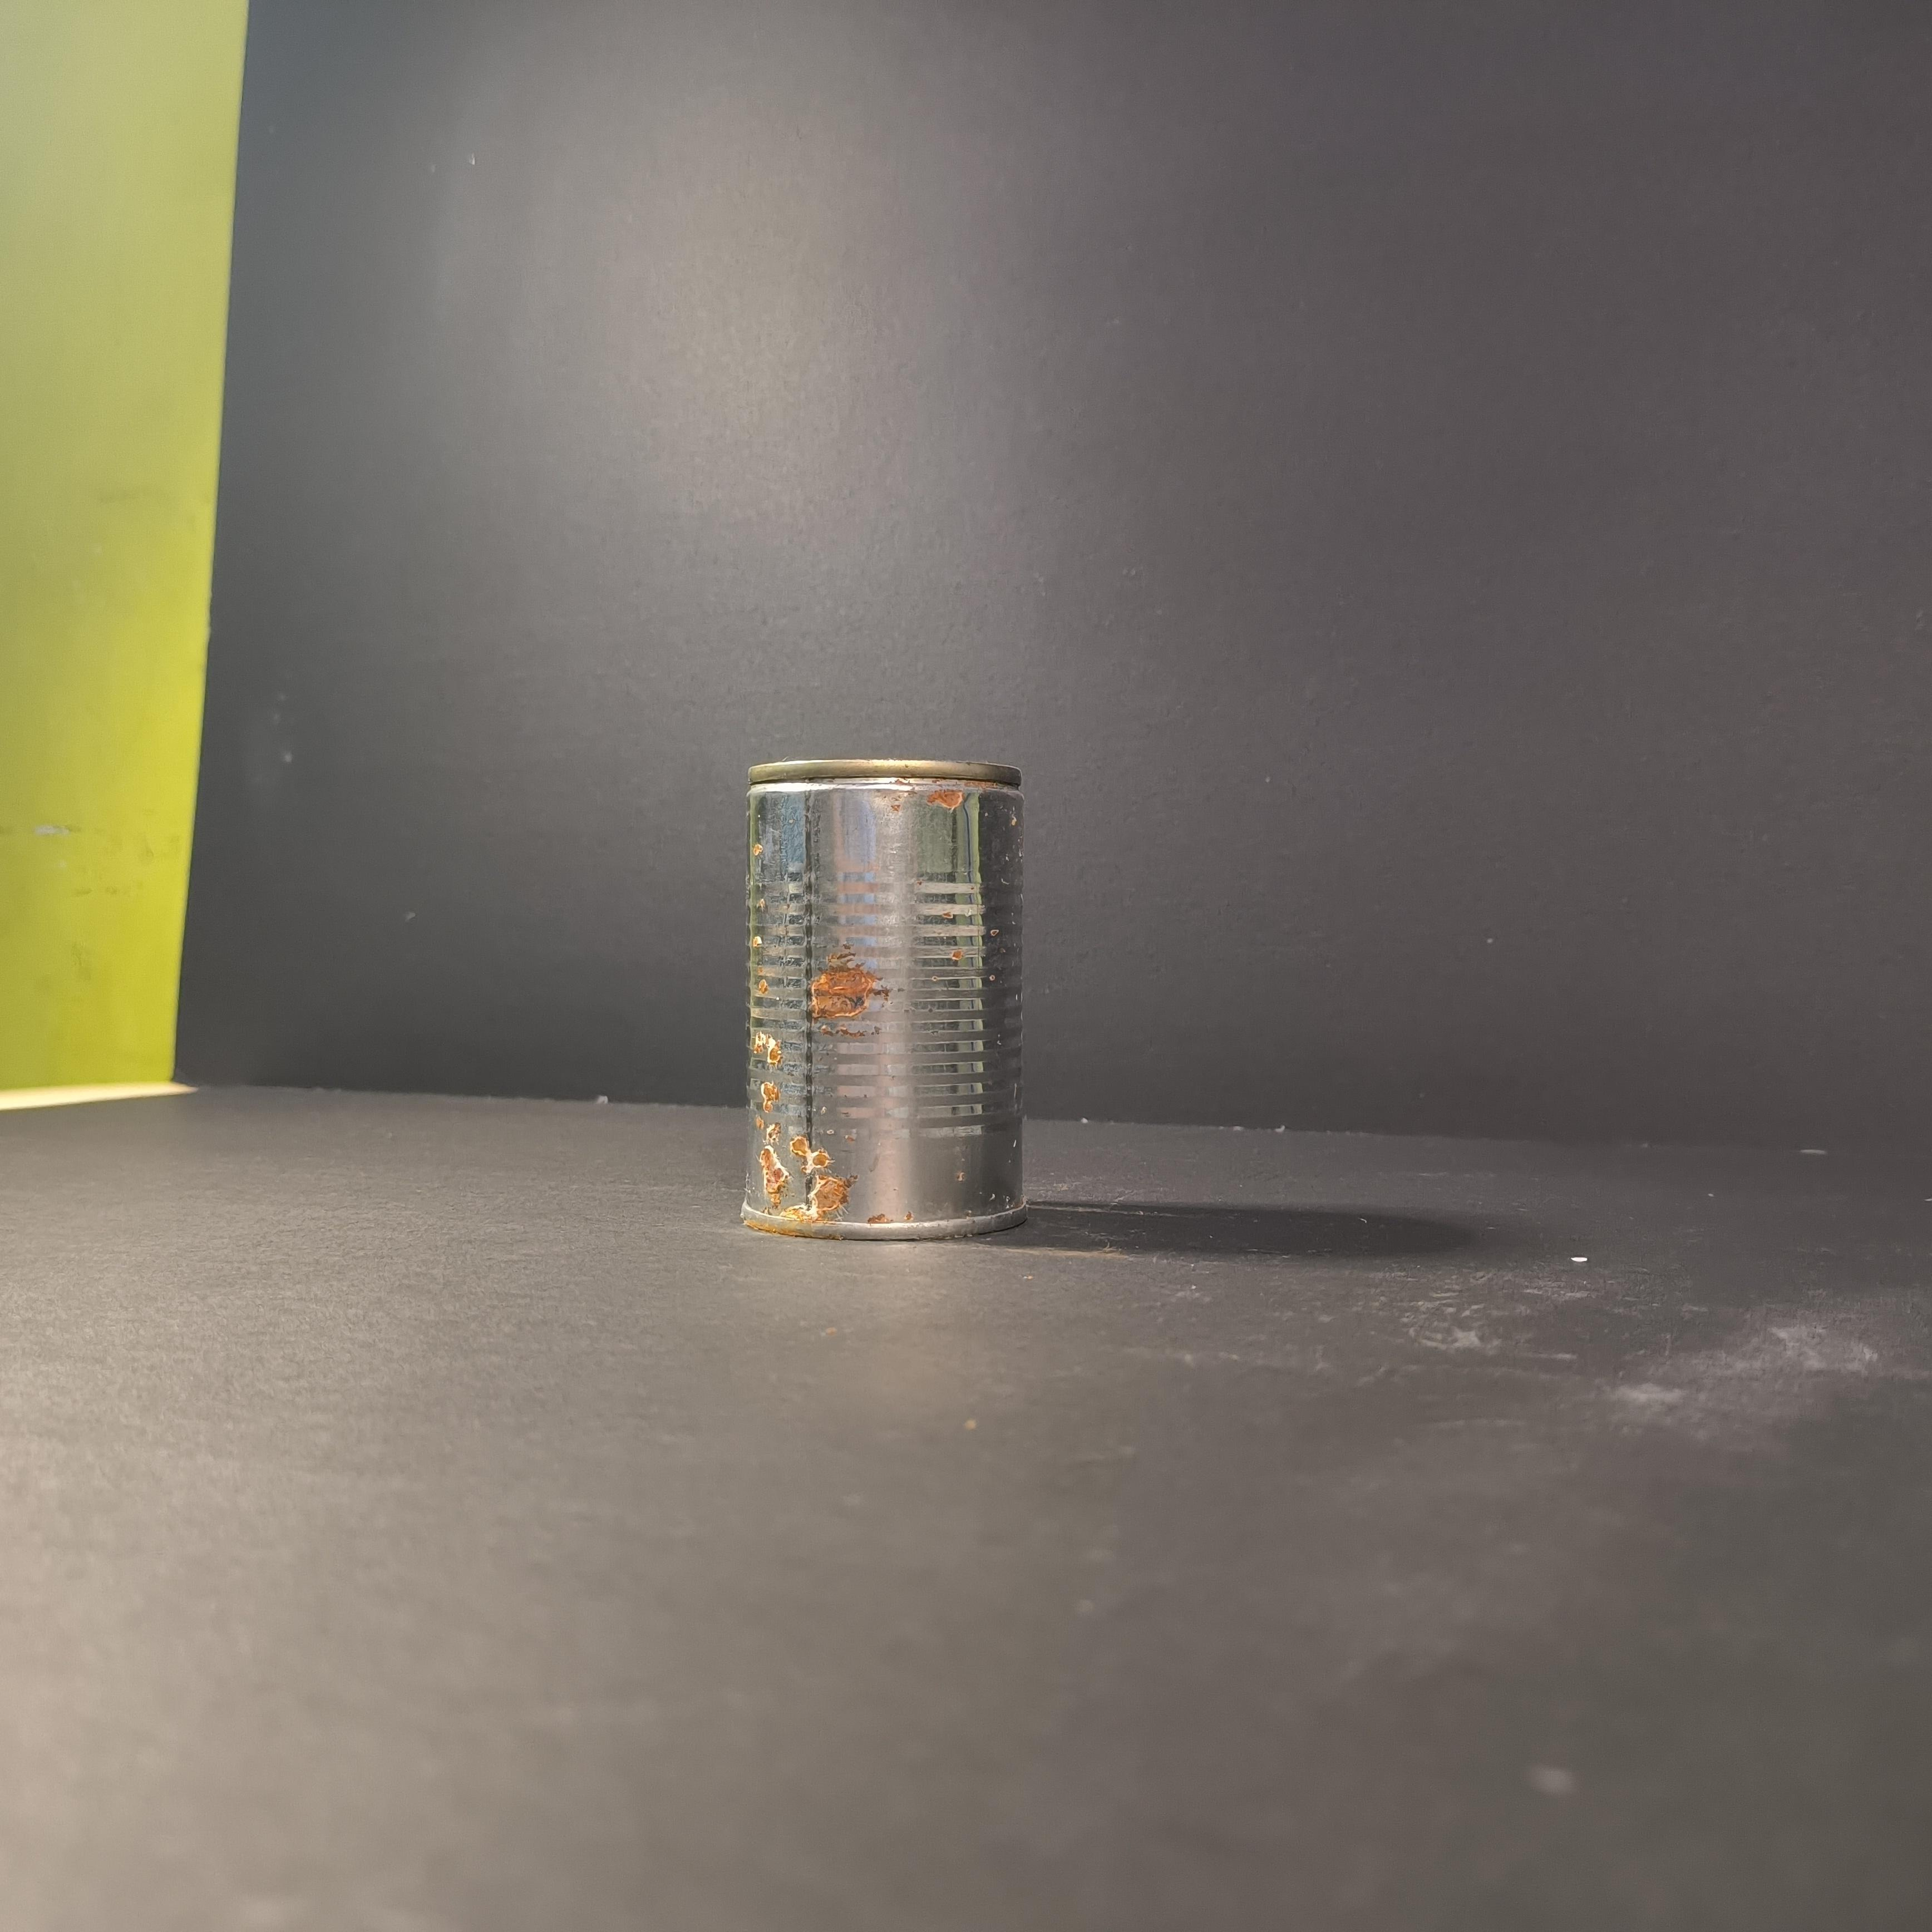Rusted: (743, 740, 1040, 1247)
